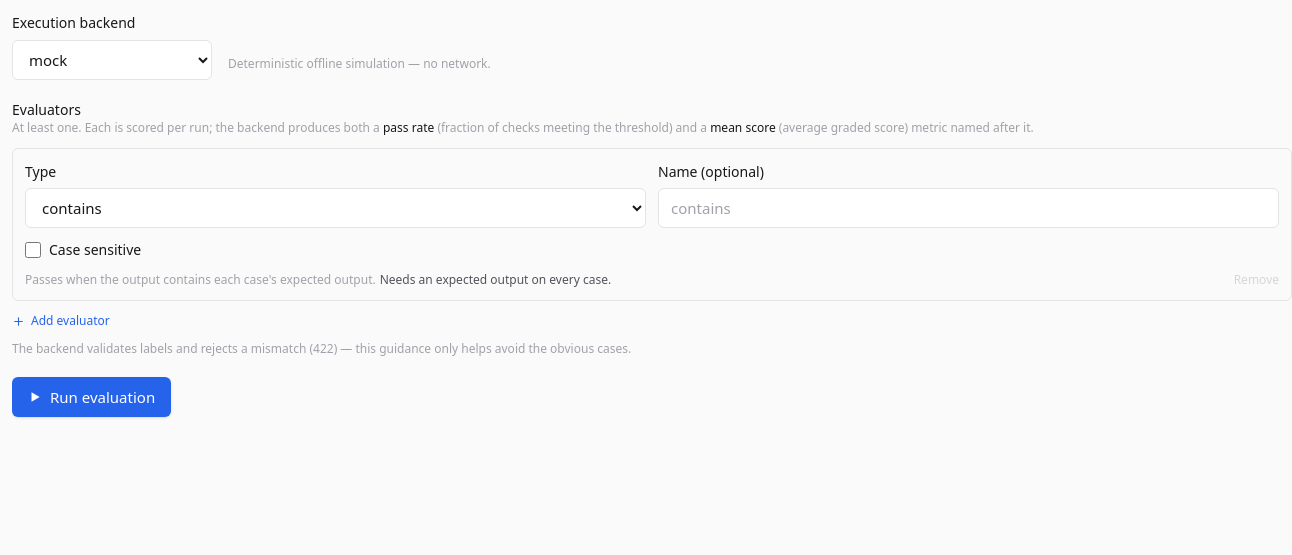
it: RunForm — RAG & agent evaluator configuration › shows the RAG threshold, the label requirement, and RAG product copy
Select "retrieval_recall" in the dropdown labelled "Type": {"x": 336, "y": 208} [25,188,646,228]
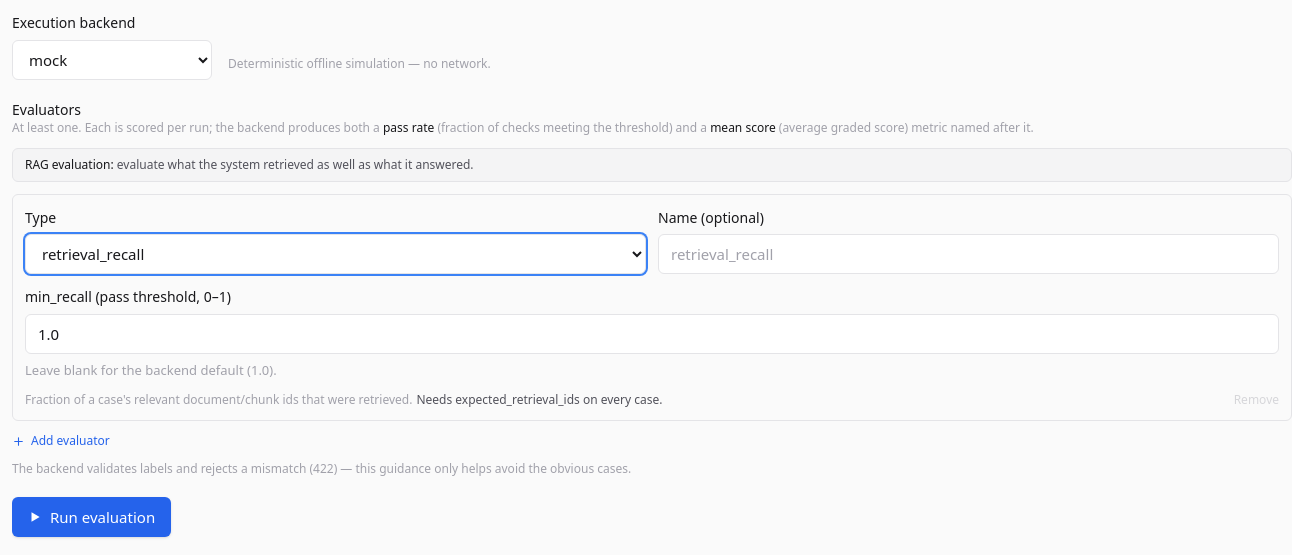
Expected: the number field labelled "min_recall (pass threshold, 0–1)" is shown, [25,314,1279,354]
Expected: the text "Needs expected_retrieval_ids on every case." is shown, [416,391,662,408]
Expected: the text "evaluate what the system retrieved as well as what it answered" is shown, [117,156,474,173]
